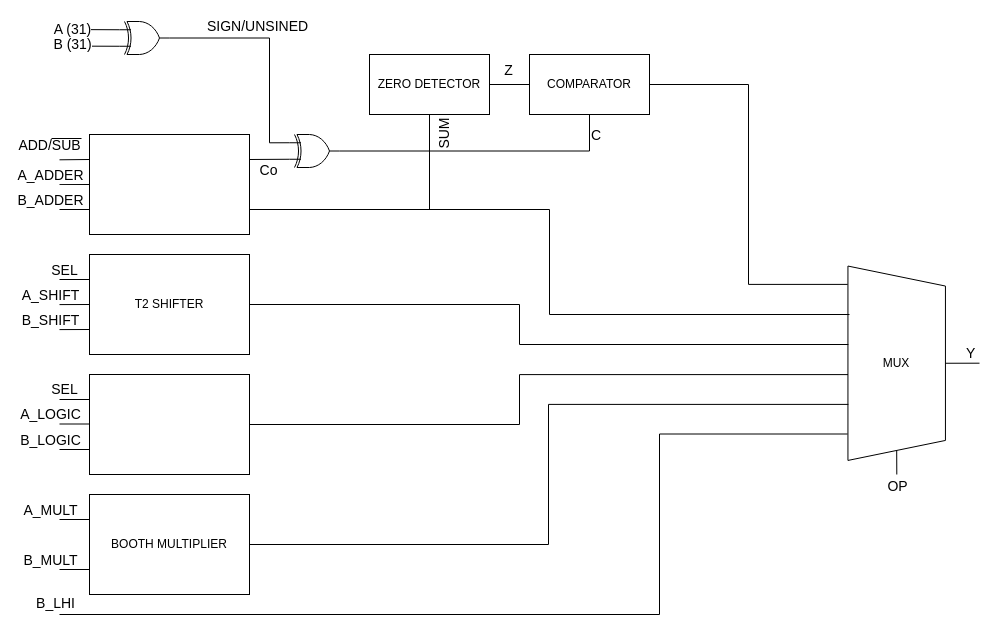
This 998x633 diagram has some shape labels left out. Each missing label, with the box of its shape:
P4 ADD/SUB: (88, 134, 250, 234)
T2 LOGIC UNIT: (88, 374, 250, 474)
